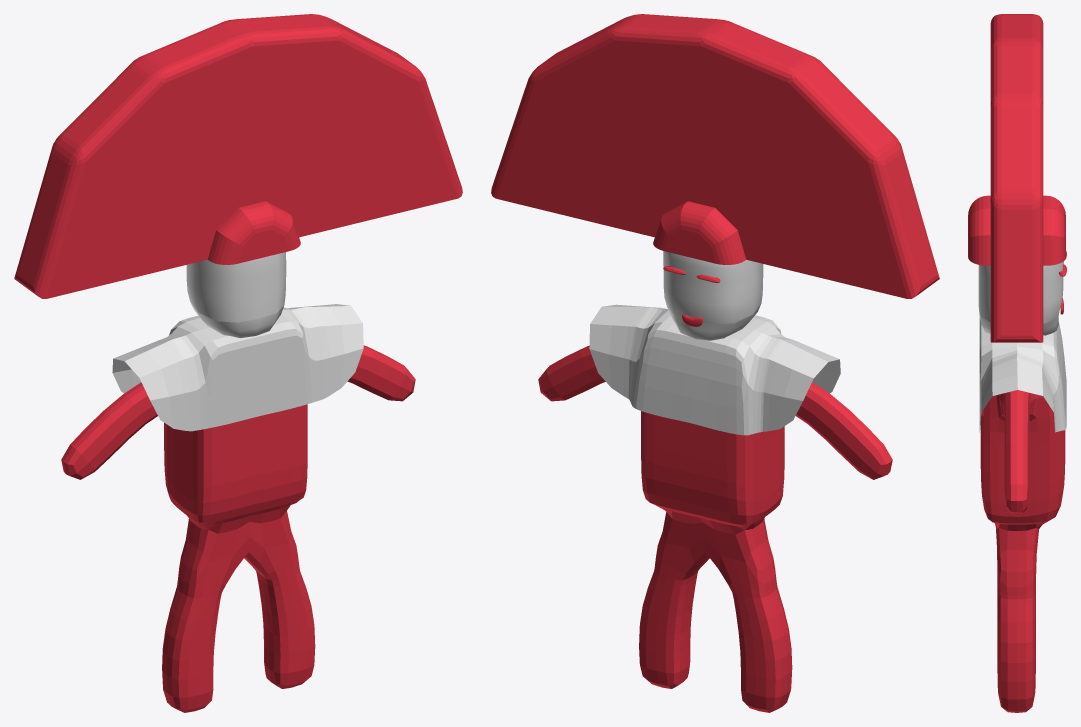
File: danzante.glb
3 views of the same model, side by side, from view 1: azimuth 30°, elevation 25°; view 2: azimuth 150°, elevation 25°; view 3: azimuth 270°, elevation 25° (orthographic). The views are drawn at different scales.
Parts seen in each view (by area): view 1: DanzanteTop, DanzanteMid, DanzanteBottom; view 2: DanzanteTop, DanzanteMid, DanzanteBottom; view 3: DanzanteTop, DanzanteMid, DanzanteBottom.
Part boxes in pixels (x1,y1,x2,y2): DanzanteTop: (14,14,462,322); DanzanteMid: (61,302,415,502); DanzanteBottom: (162,470,315,712); DanzanteTop: (491,14,939,341); DanzanteMid: (538,304,892,501); DanzanteBottom: (639,476,792,712); DanzanteTop: (968,14,1066,342); DanzanteMid: (979,309,1066,513); DanzanteBottom: (982,490,1063,712).
Bounding box in the file's own units: 1.74 × 2.61 × 0.3625.
